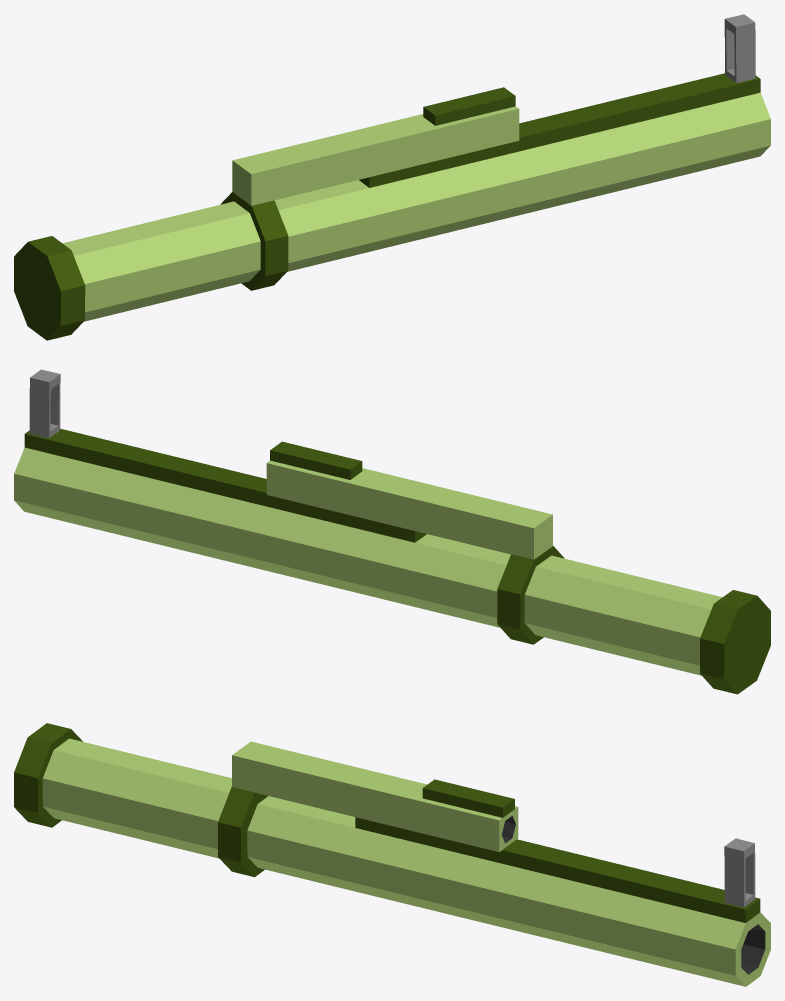
Rendered from bazoka.fbx.
3 renders of one model, top to bottom at view 1: azimuth 30°, elevation 25°; view 2: azimuth 150°, elevation 25°; view 3: azimuth 330°, elevation 25°, orthographic.
Parts seen in each view (by area): view 1: bazoka; view 2: bazoka; view 3: bazoka.
Part boxes in pixels (<box>): bazoka: <box>14,14,770,340</box>; bazoka: <box>14,369,770,694</box>; bazoka: <box>14,723,770,986</box>.
Bounding box in the file's own units: 6.48 × 1.22 × 0.7359.
